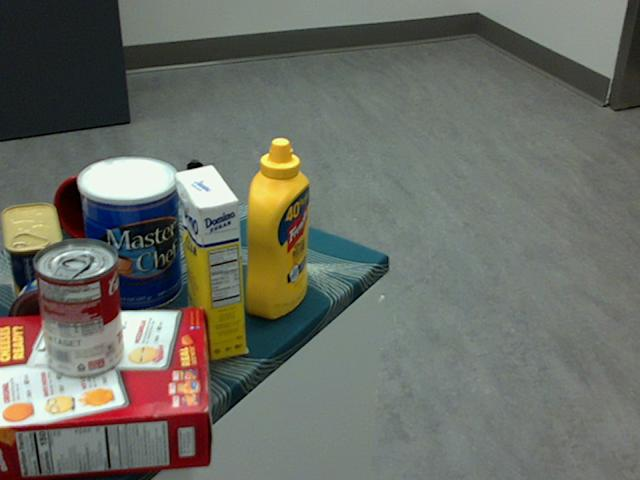cracker_box: (0, 309, 211, 479)
large_marker: (187, 159, 206, 253)
master_chef_can: (75, 156, 181, 314)
mug: (52, 159, 144, 246)
mustard_bottle: (243, 136, 309, 318)
potted_meat_can: (0, 201, 68, 313)
sugar_box: (175, 164, 245, 361)
tomato_soup_can: (33, 239, 122, 378)
tuna_fish_can: (8, 273, 103, 362)
